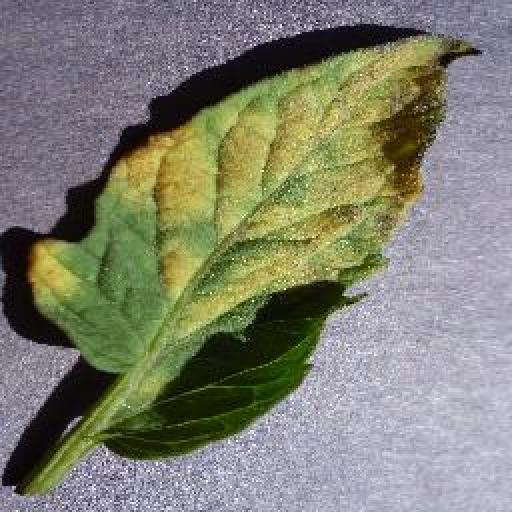Leaf Mold: (27, 33, 480, 463)
